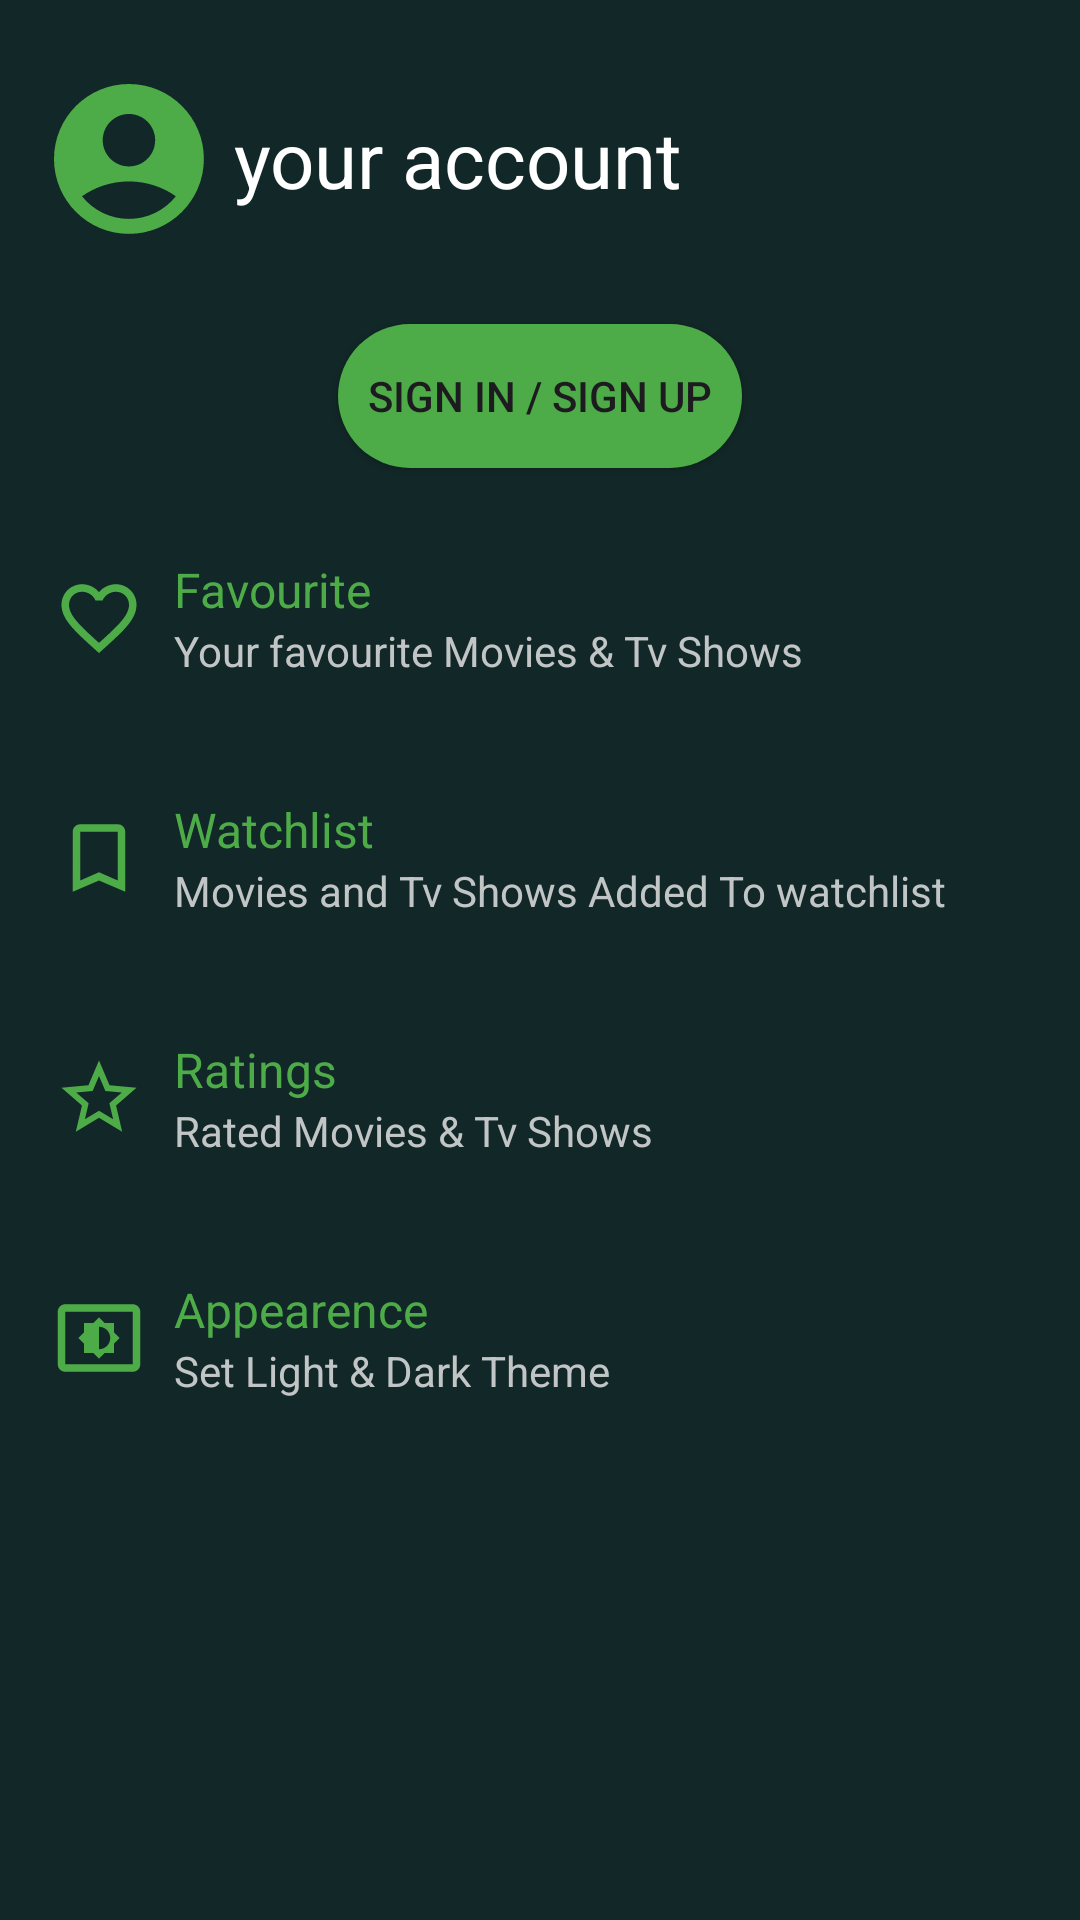

Icons on this 1080×1920 Android screen, each with its box as (x1, y1, x2, y2):
bookmark border: (72, 824, 126, 892)
brightness: (57, 1304, 141, 1372)
personicon: (54, 84, 204, 234)
star border: (62, 1061, 136, 1132)
